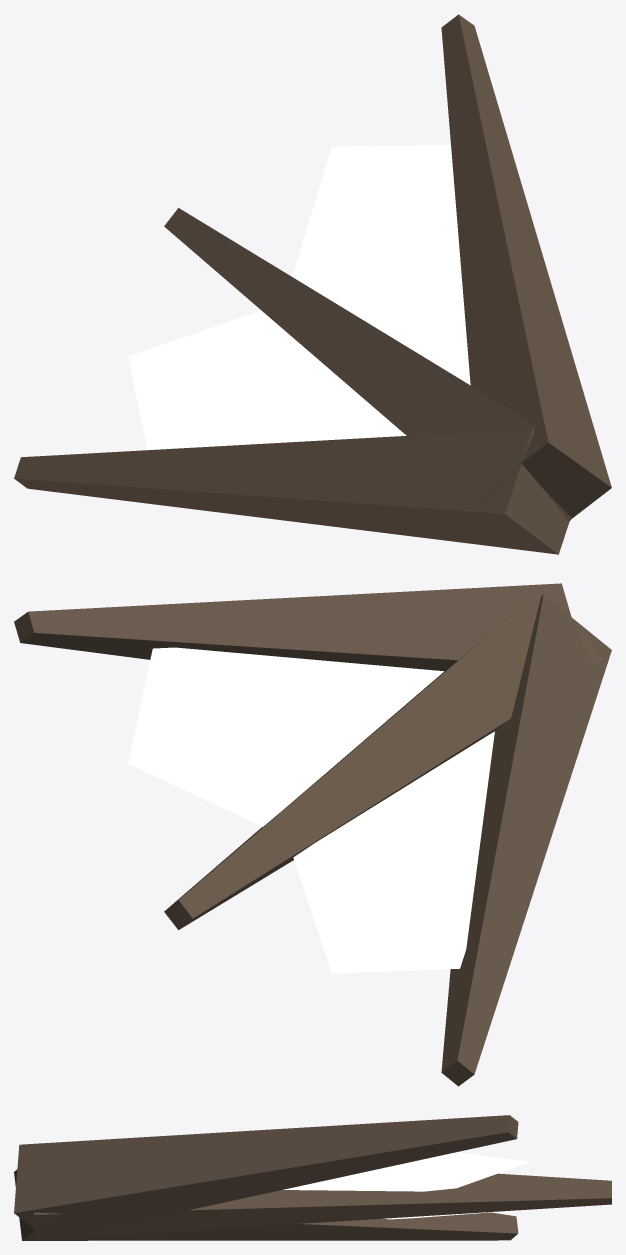
File: fins.glb
3 views of the same model, one above another, from view 1: azimuth 30°, elevation 25°; view 2: azimuth 150°, elevation 25°; view 3: azimuth 270°, elevation 25° (orthographic). The views are drawn at different scales.
Visible parts, largest first — view 1: fins; view 2: fins; view 3: fins.
Boxes of the visible parts, x1,y1,x2,y2 form: fins: (14, 14, 611, 554); fins: (14, 583, 611, 1086); fins: (14, 1115, 611, 1240).
Size of the model in its own units: 0.0637 by 0.0488 by 0.091.
